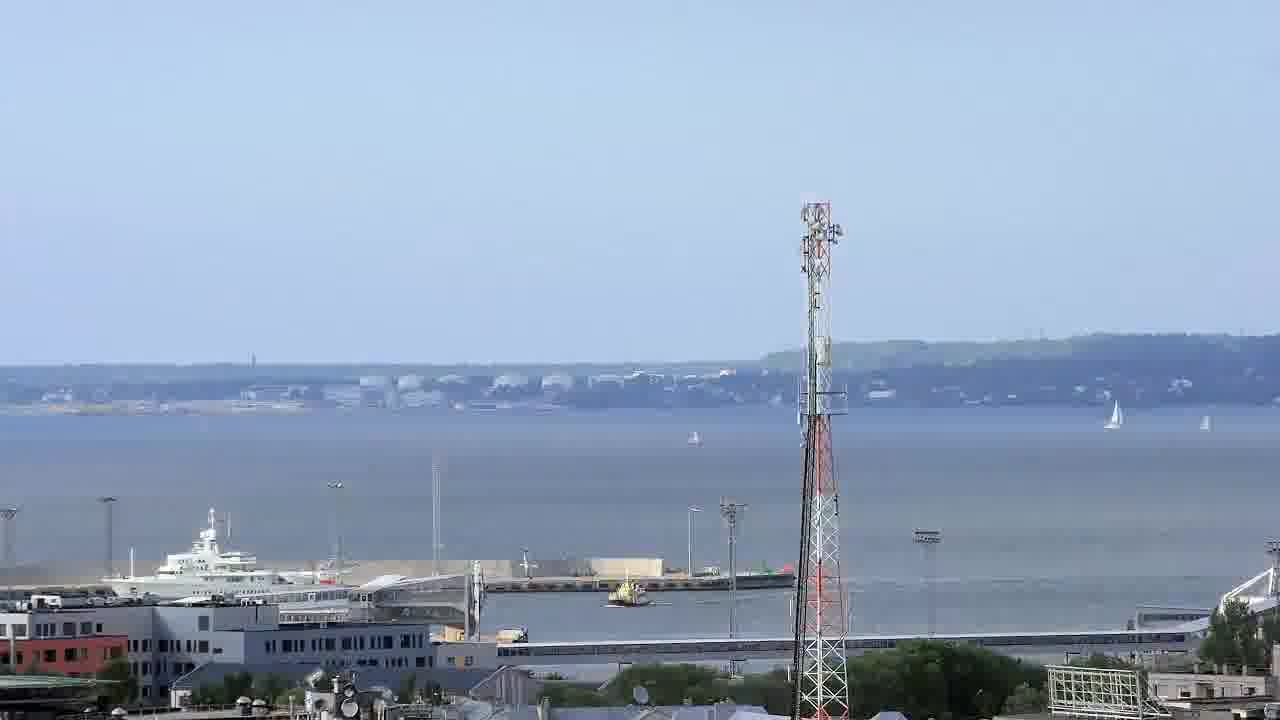type-0: (591, 566, 677, 619)
type-2: (1088, 374, 1139, 445)
type-3: (88, 507, 346, 605)
